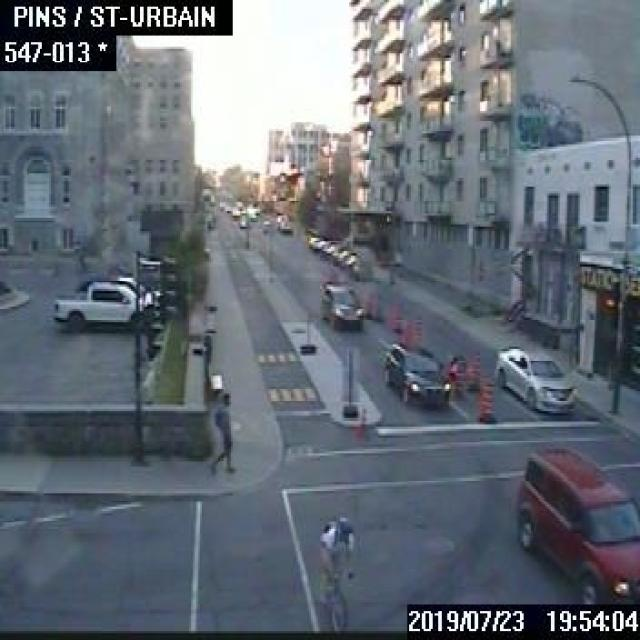construction: (476, 378, 494, 422), (466, 348, 484, 392), (451, 352, 468, 398), (353, 407, 370, 438), (390, 301, 402, 331), (406, 318, 422, 340)
cyclist: (313, 513, 354, 631)
pedestrian: (207, 389, 233, 478), (391, 244, 402, 280)
vehicle: (513, 444, 638, 602), (492, 344, 576, 414), (53, 280, 142, 333), (383, 340, 450, 408), (318, 280, 364, 328), (76, 274, 145, 296), (349, 257, 372, 276), (337, 248, 360, 267), (330, 243, 350, 263), (320, 236, 340, 255), (276, 213, 290, 230), (306, 234, 321, 247), (259, 216, 271, 230)
